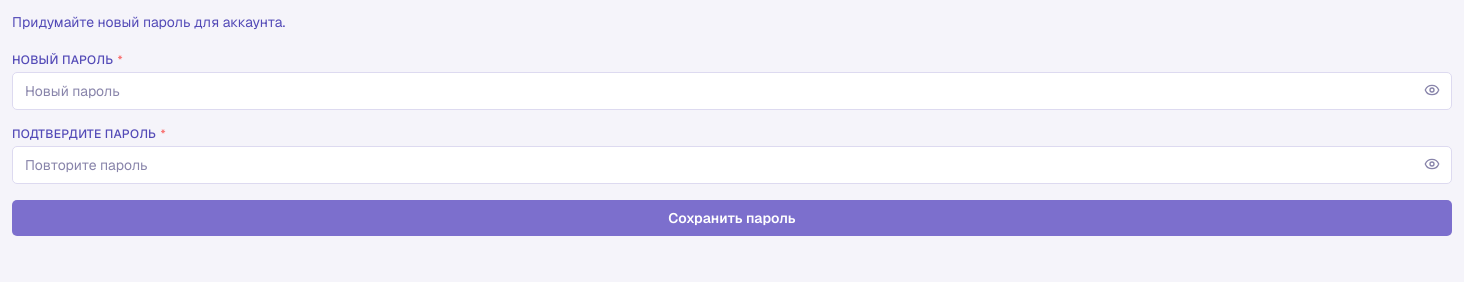
Scenario: ResetPasswordForm › shows PasswordStrengthIndicator when password typed
This screenshot has width=1464, height=282.
In the password field labelled "Новый пароль*": [732, 91] box [12,72,1452,110], type "test"
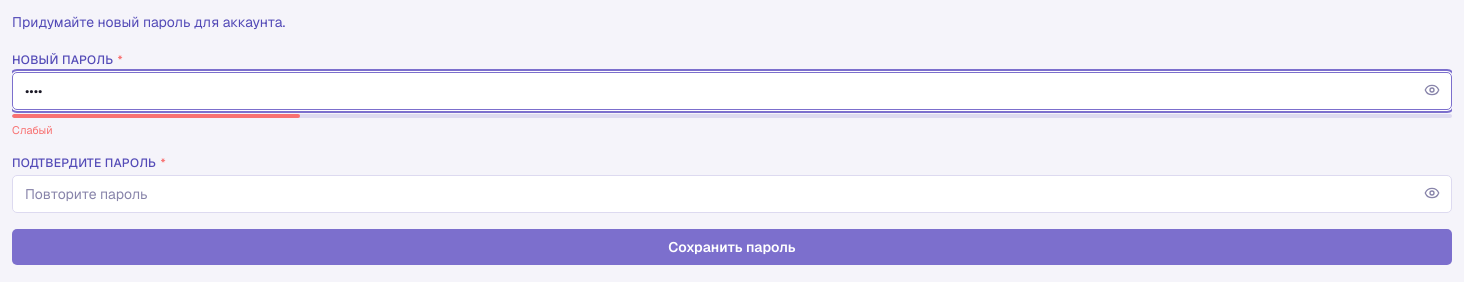
Check: the text "Слабый" is shown, box [12,123,53,137]
